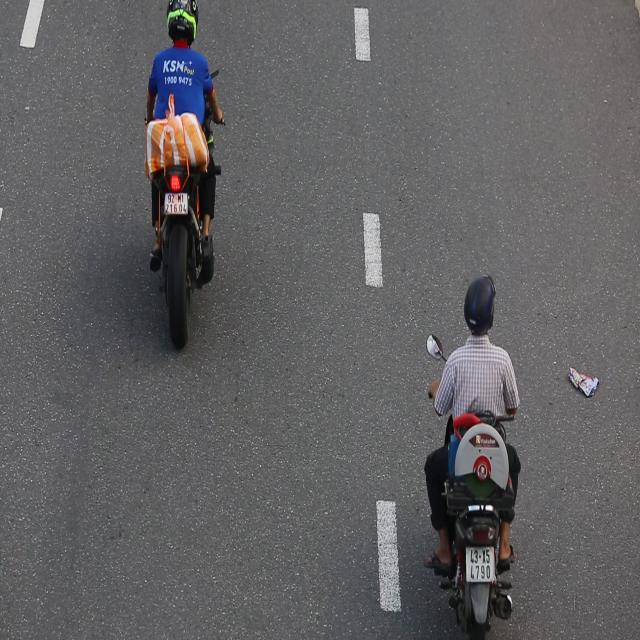motorbike: (424, 273, 528, 640), (142, 1, 227, 364)
